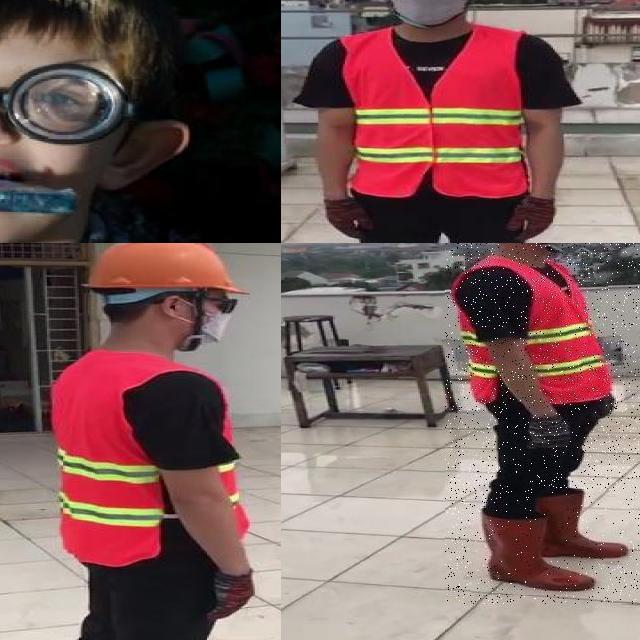No_Ear-Protection: (102, 112, 198, 196)
boots: (471, 508, 595, 596), (532, 490, 630, 559)
face_mask: (380, 0, 474, 22)
face_nomask: (0, 65, 83, 199)
glasses: (0, 54, 150, 135)
hand_glove: (205, 571, 255, 619), (324, 198, 374, 240), (508, 198, 554, 240)
head_helmet: (79, 243, 253, 300)
head_nohelmet: (0, 0, 125, 51)
person: (40, 243, 273, 640), (294, 0, 589, 243), (445, 243, 640, 604), (0, 0, 225, 243)
vest: (52, 352, 246, 564), (347, 28, 528, 199), (451, 254, 608, 402)
